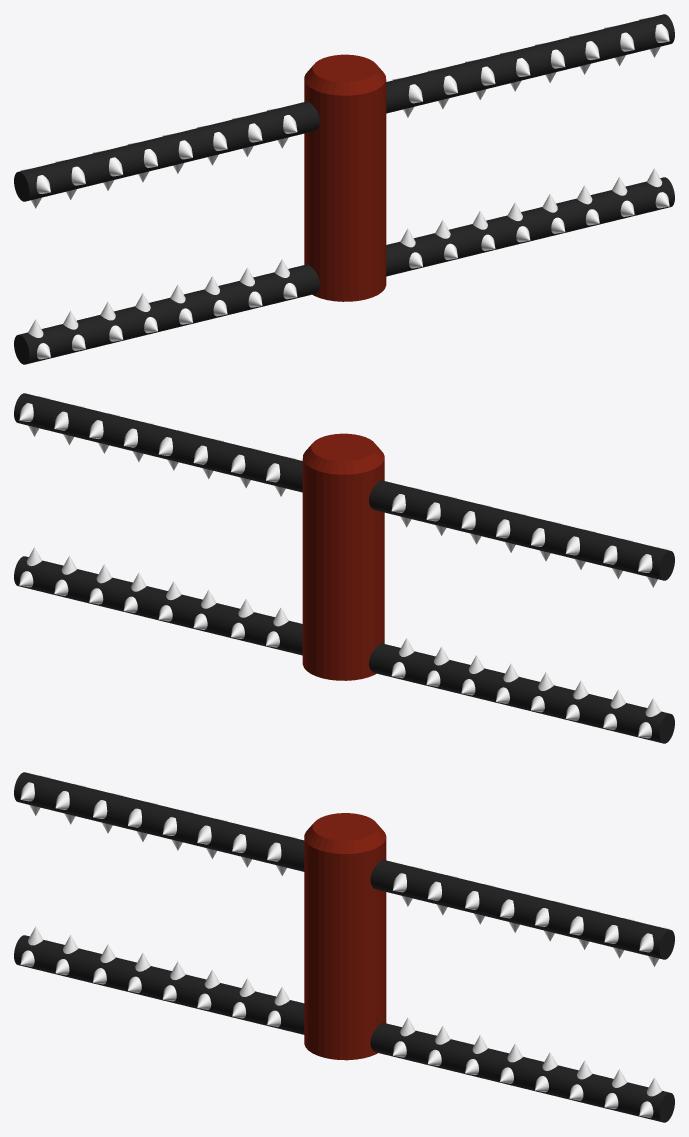
File: clock.fbx
3 renders of one model, top to bottom at view 1: azimuth 30°, elevation 25°; view 2: azimuth 150°, elevation 25°; view 3: azimuth 330°, elevation 25°, orthographic.
Parts seen in each view (by area): view 1: Cylinder.002, Cylinder.003, Cylinder.001; view 2: Cylinder.002, Cylinder.003, Cylinder.001; view 3: Cylinder.002, Cylinder.003, Cylinder.001.
Boxes of the visible parts, x1,y1,x2,y2 form: Cylinder.002: (14, 168, 674, 364); Cylinder.003: (14, 14, 674, 208); Cylinder.001: (304, 54, 386, 301); Cylinder.002: (14, 547, 674, 743); Cylinder.003: (14, 393, 674, 587); Cylinder.001: (302, 433, 384, 680); Cylinder.002: (14, 926, 674, 1122); Cylinder.003: (14, 772, 674, 966); Cylinder.001: (304, 813, 386, 1060).
Size of the model in its own units: 727 by 233 by 80.
4 materials, 4 textured.
